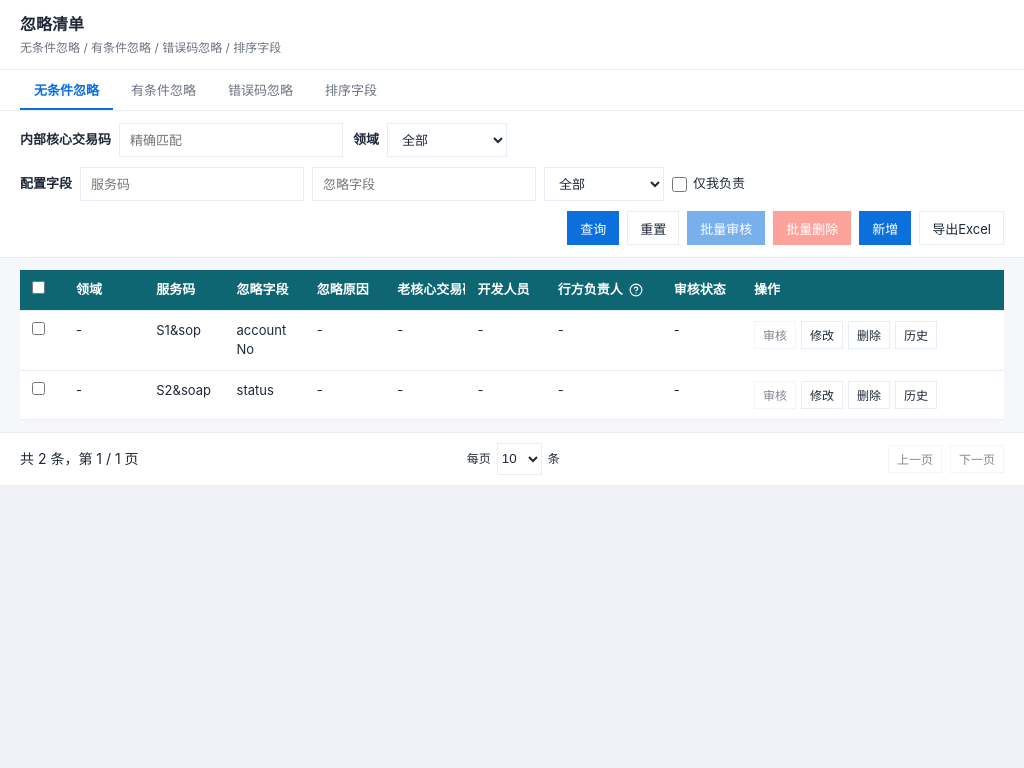
Test case: ReplayConfigPage（忽略清单） › uses sorting-specific labels and explains single versus multiple sort properties
Click the tab with test id "tab-sort-fields" at {"x": 351, "y": 90}, box [311,70,391,110]
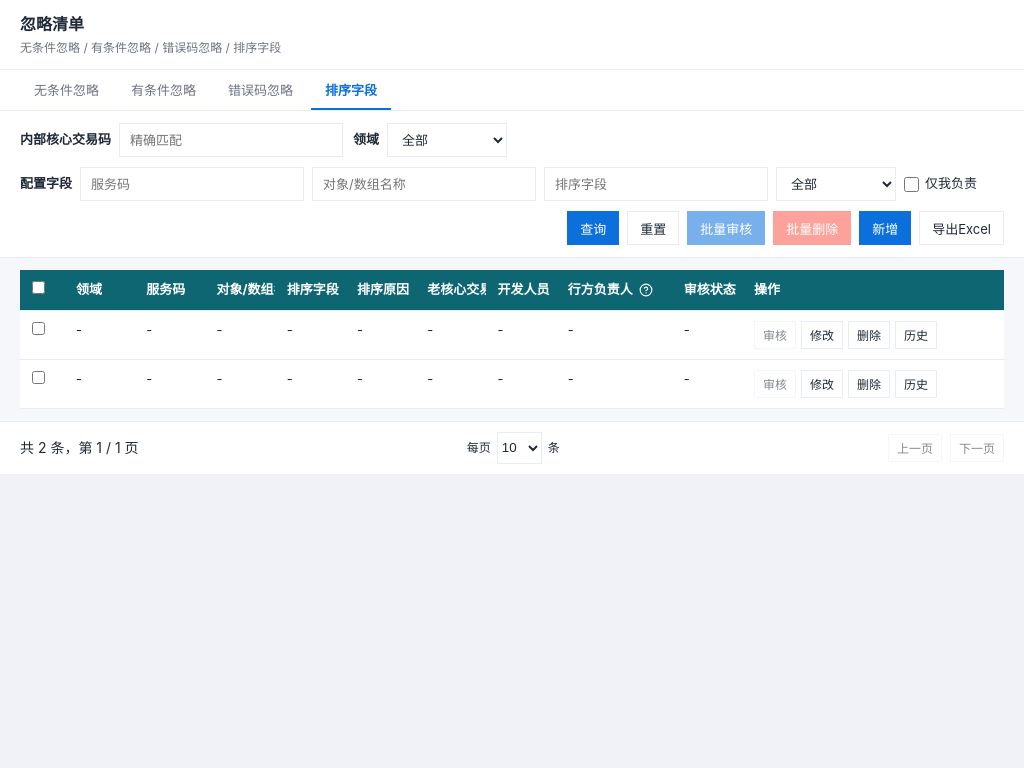
Click the button with test id "create-config" at {"x": 885, "y": 228}, box [859,211,911,245]
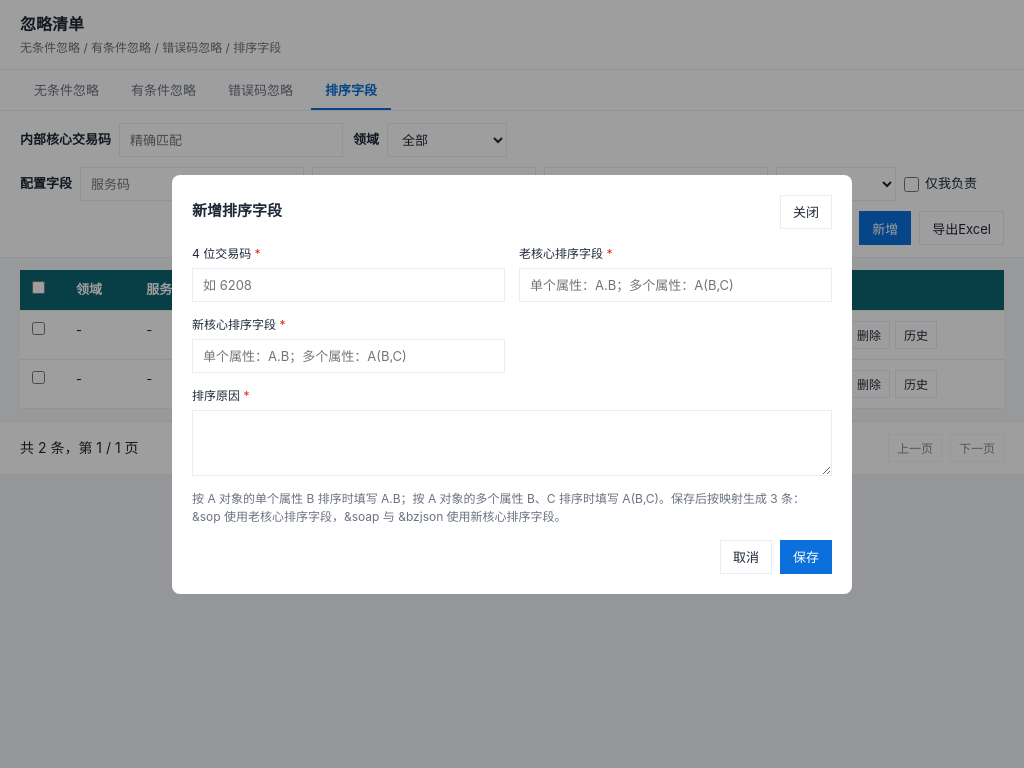
Expected: the text with class "replay-hint" shows "按 A 对象的单个属性 B 排序时填写 A.B", [192,490,805,524]
Expected: the text with class "replay-hint" shows "按 A 对象的多个属性 B、C 排序时填写 A(B,C)", [192,490,805,524]
